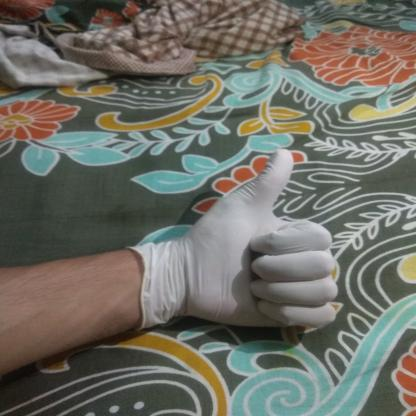gloved_hand: (123, 144, 343, 342)
